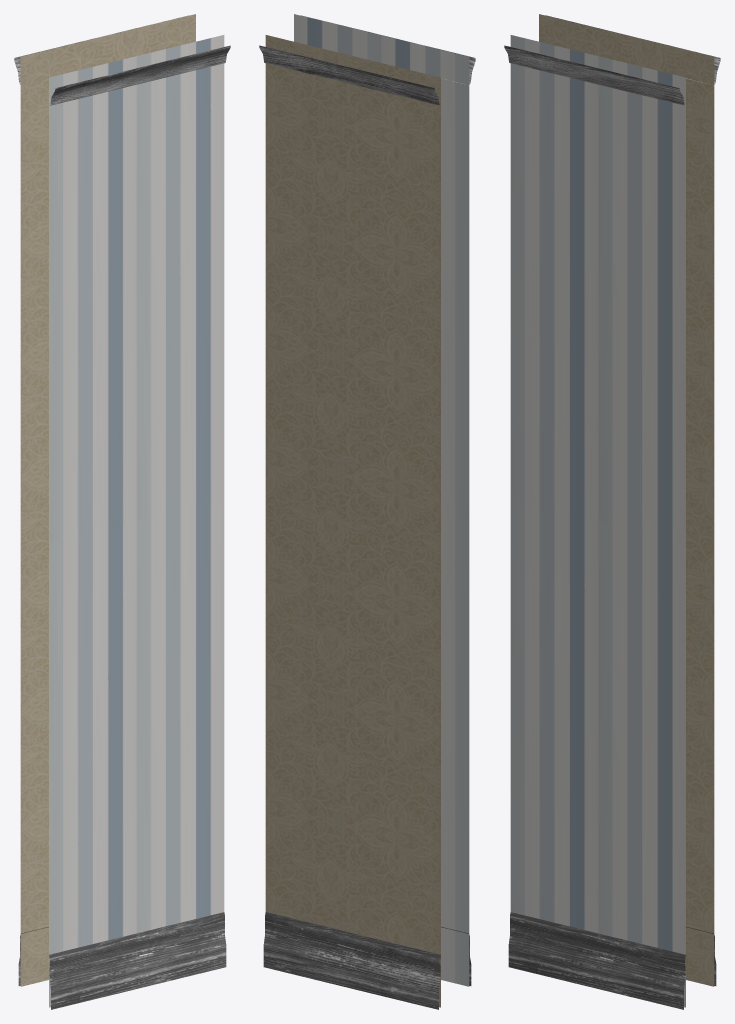
Rendered from SM_Wall_Floor1_Inside_100.fbx.
3 views of the same model, side by side, from view 1: azimuth 30°, elevation 25°; view 2: azimuth 150°, elevation 25°; view 3: azimuth 330°, elevation 25° (orthographic).
Visible parts, largest first — view 1: SM_Wall_Floor1_Inside_100; view 2: SM_Wall_Floor1_Inside_100; view 3: SM_Wall_Floor1_Inside_100.
Boxes of the visible parts, x1=… form: SM_Wall_Floor1_Inside_100: x1=14, y1=14, x2=230, y2=1009; SM_Wall_Floor1_Inside_100: x1=259, y1=14, x2=475, y2=1009; SM_Wall_Floor1_Inside_100: x1=504, y1=14, x2=720, y2=1009.
Size of the model in its own units: 50 by 20.33 by 253.
Materials: 3 (3 with a texture image).
